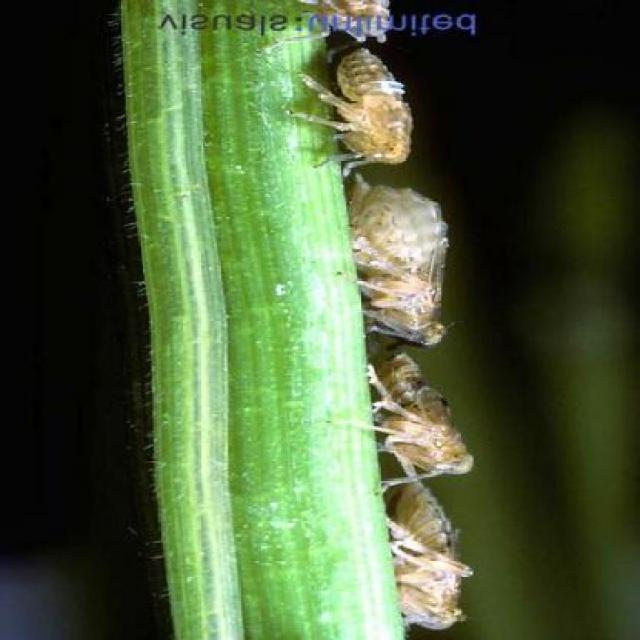brown-planthopper: (344, 183, 454, 348), (362, 354, 478, 478), (382, 498, 469, 632), (324, 45, 410, 166)
